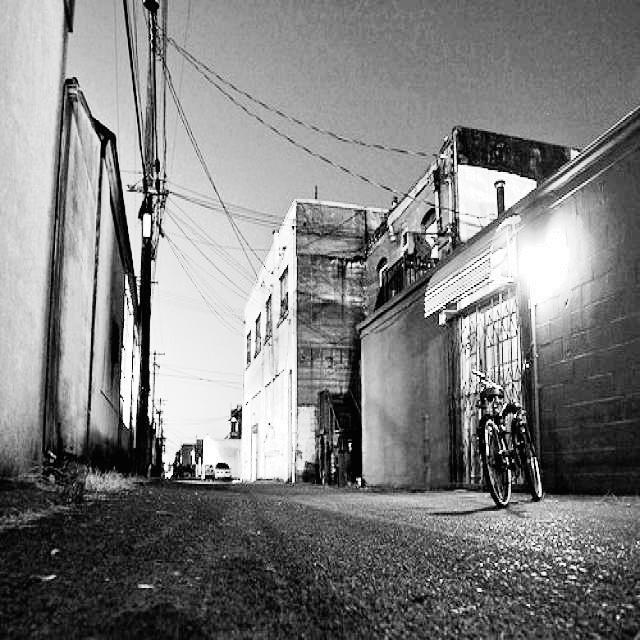Bicycle: (461, 369, 552, 510)
